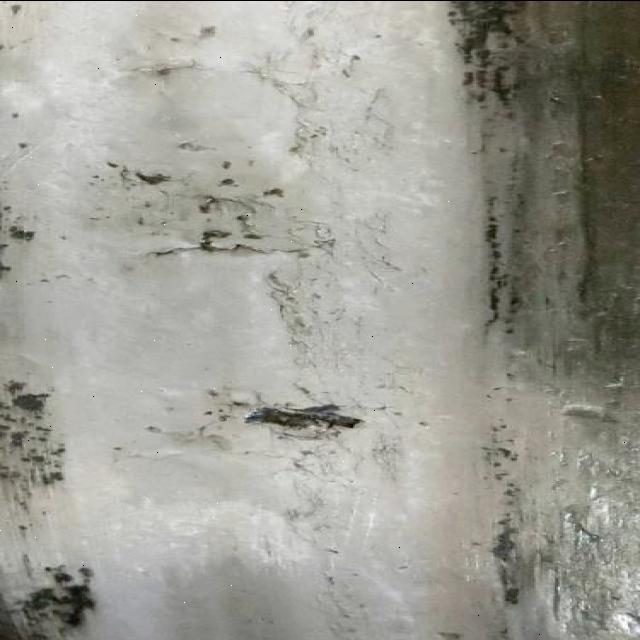boli: (146, 194, 326, 292), (216, 384, 380, 456)
